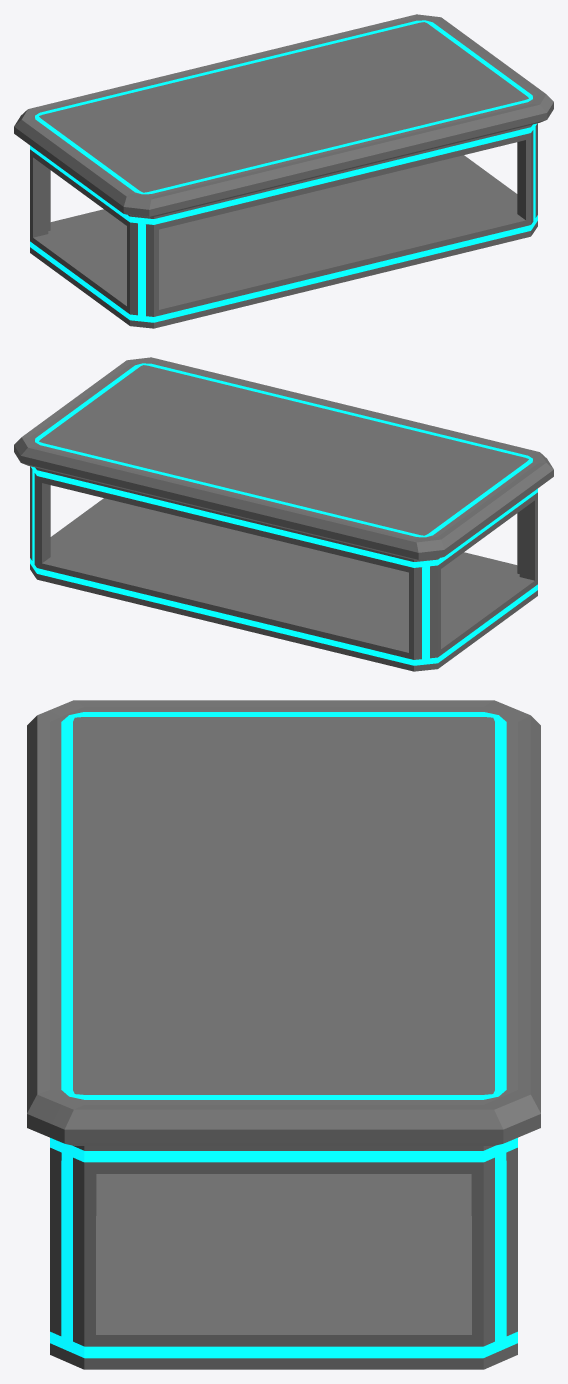
The model's file is Table_SilverBlue.fbx.
3 views of the same model, one above another, from view 1: azimuth 30°, elevation 25°; view 2: azimuth 150°, elevation 25°; view 3: azimuth 270°, elevation 25° (orthographic). The views are drawn at different scales.
Visible parts, largest first — view 1: Table; view 2: Table; view 3: Table.
Boxes of the visible parts, left/top/right/bottom form: Table: left=14, top=14, right=553, bottom=328; Table: left=14, top=357, right=553, bottom=671; Table: left=27, top=700, right=540, bottom=1369.
Bounding box in the file's own units: 261 × 77.08 × 135.
